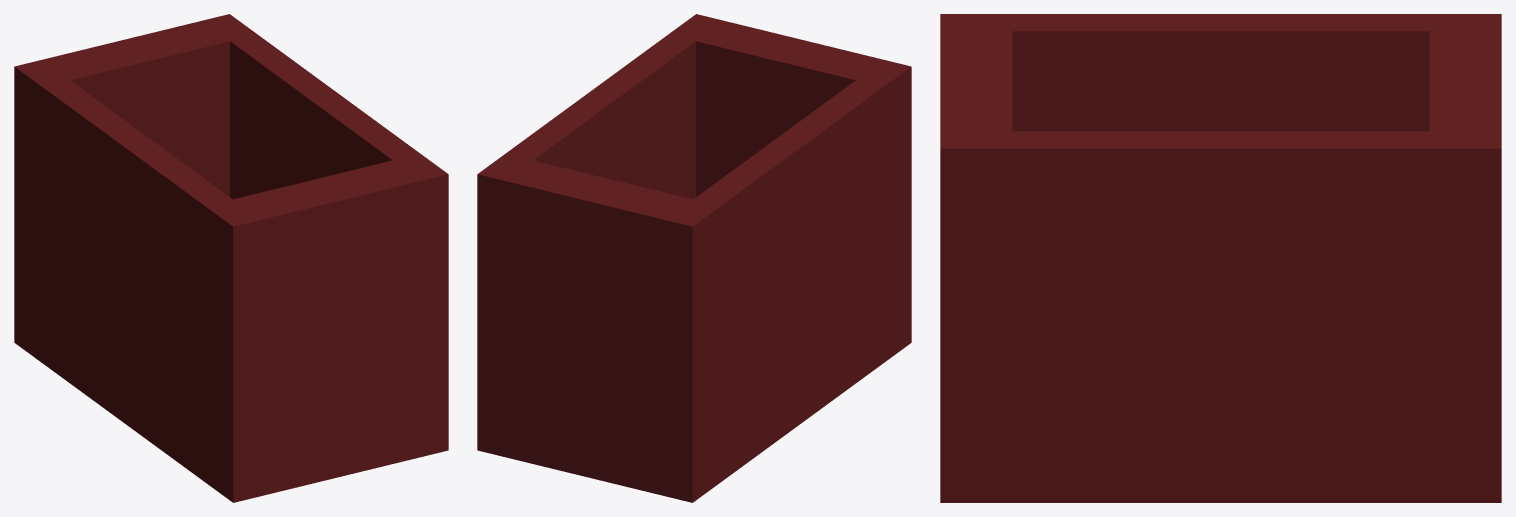
The model's file is contenedor1.obj.
3 views of the same model, side by side, from view 1: azimuth 30°, elevation 25°; view 2: azimuth 150°, elevation 25°; view 3: azimuth 270°, elevation 25° (orthographic). The views are drawn at different scales.
Parts seen in each view (by area): view 1: contenedor1; view 2: contenedor1; view 3: contenedor1.
Part boxes in pixels (<box>): contenedor1: <box>14,14,448,502</box>; contenedor1: <box>477,14,911,502</box>; contenedor1: <box>940,14,1501,502</box>.
Size of the model in its own units: 4.22 by 5.18 by 7.44.
